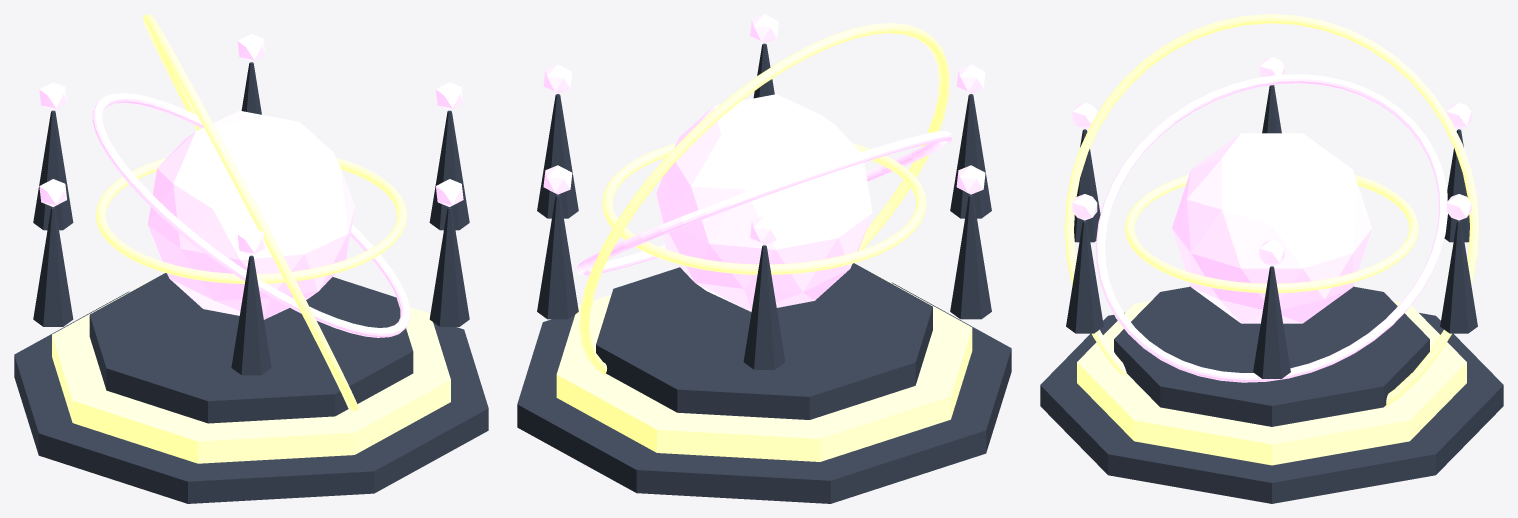
Rendered from gpu-blender-v46.glb.
3 renders of one model, left to right at view 1: azimuth 30°, elevation 25°; view 2: azimuth 150°, elevation 25°; view 3: azimuth 270°, elevation 25°, orthographic. The views are drawn at different scales.
Visible parts, largest first — view 1: Cylinder.002, SovereignCore_zoth-bounty, Cylinder, Cylinder.001, Torus.001, Torus.002, Torus, Cone.004, Cone.003, Cone.005, Cone, Cone.002 (+7 smaller); view 2: Cylinder.002, SovereignCore_zoth-bounty, Cylinder, Cylinder.001, Torus.002, Torus.001, Torus, Cone.001, Cone.003, Cone.002, Cone, Cone.004 (+6 smaller); view 3: SovereignCore_zoth-bounty, Cylinder.002, Cylinder, Cylinder.001, Torus.001, Torus.002, Torus, Cone.001, Cone.005, Cone, Cone.004, Cone.002 (+4 smaller).
Part boxes in pixels (bbox=[...]): Cylinder.002: bbox=[89, 273, 413, 423]; SovereignCore_zoth-bounty: bbox=[147, 110, 355, 319]; Cylinder: bbox=[14, 291, 488, 503]; Cylinder.001: bbox=[52, 281, 450, 463]; Torus.001: bbox=[92, 93, 410, 337]; Torus.002: bbox=[143, 14, 358, 411]; Torus: bbox=[95, 158, 407, 283]; Cone.004: bbox=[231, 255, 271, 375]; Cone.003: bbox=[33, 207, 73, 326]; Cone.005: bbox=[429, 207, 469, 326]; Cone: bbox=[429, 110, 469, 230]; Cone.002: bbox=[33, 110, 73, 230]; Cylinder.002: bbox=[596, 263, 932, 419]; SovereignCore_zoth-bounty: bbox=[656, 94, 872, 311]; Cylinder: bbox=[517, 282, 1011, 503]; Cylinder.001: bbox=[556, 272, 972, 461]; Torus.002: bbox=[579, 23, 949, 374]; Torus.001: bbox=[577, 131, 951, 275]; Torus: bbox=[602, 143, 926, 274]; Cone.001: bbox=[537, 195, 578, 319]; Cone.003: bbox=[950, 195, 991, 319]; Cone.002: bbox=[743, 245, 785, 369]; Cone: bbox=[537, 94, 578, 218]; Cone.004: bbox=[950, 94, 991, 218]; SovereignCore_zoth-bounty: bbox=[1172, 133, 1371, 323]; Cylinder.002: bbox=[1114, 286, 1429, 426]; Cylinder: bbox=[1040, 313, 1503, 503]; Cylinder.001: bbox=[1077, 301, 1466, 465]; Torus.001: bbox=[1096, 74, 1447, 382]; Torus.002: bbox=[1064, 14, 1479, 406]; Torus: bbox=[1125, 175, 1418, 292]; Cone.001: bbox=[1440, 220, 1477, 333]; Cone.005: bbox=[1066, 220, 1103, 333]; Cone: bbox=[1253, 266, 1290, 378]; Cone.004: bbox=[1074, 129, 1100, 242]; Cone.002: bbox=[1444, 129, 1469, 242].
Size of the model in its own units: 4.41 by 3.72 by 4.4.
